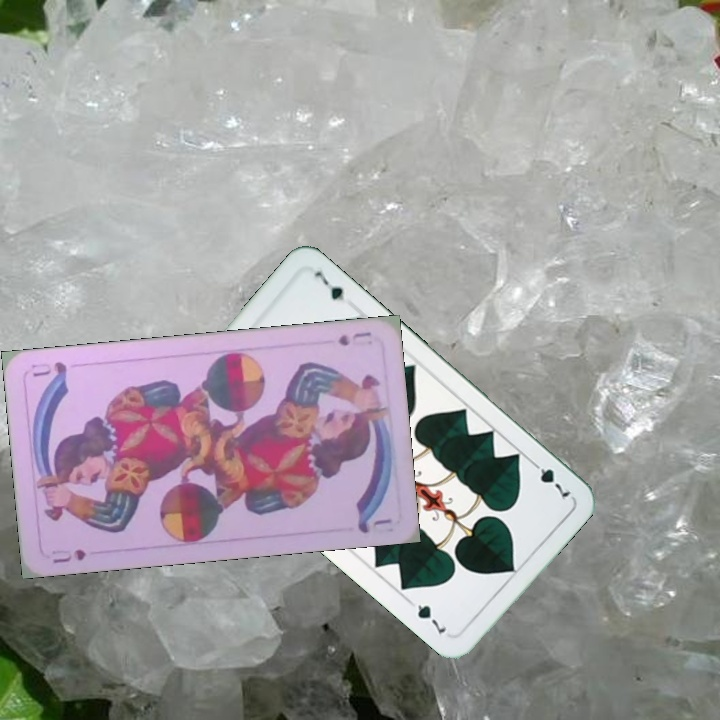G7: (526, 456, 573, 503)
SU: (47, 545, 89, 566), (334, 327, 374, 349)
